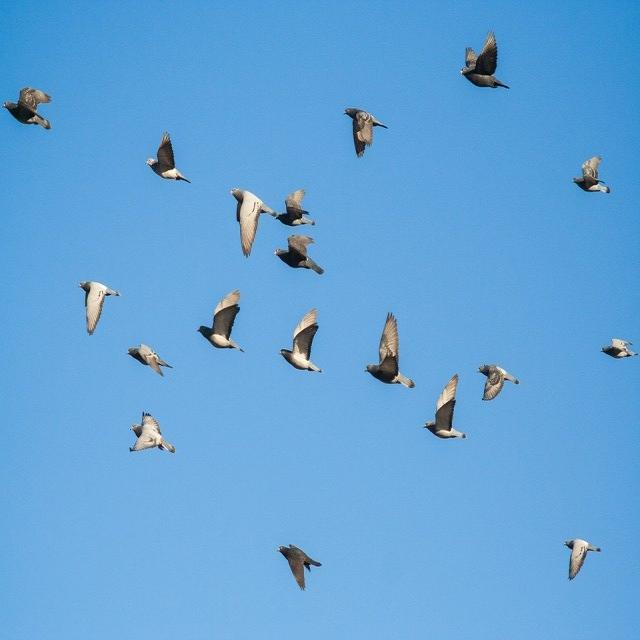bird: (366, 312, 418, 388), (231, 188, 276, 260), (198, 288, 248, 352), (460, 32, 510, 94), (278, 307, 322, 376), (427, 374, 469, 440), (78, 280, 120, 338), (3, 84, 55, 130), (145, 134, 194, 182), (343, 111, 390, 157), (277, 548, 324, 591), (130, 415, 180, 455), (276, 234, 324, 274), (267, 186, 313, 225), (476, 364, 520, 403), (125, 342, 174, 377), (564, 538, 603, 580), (571, 156, 615, 193), (599, 338, 637, 362)
